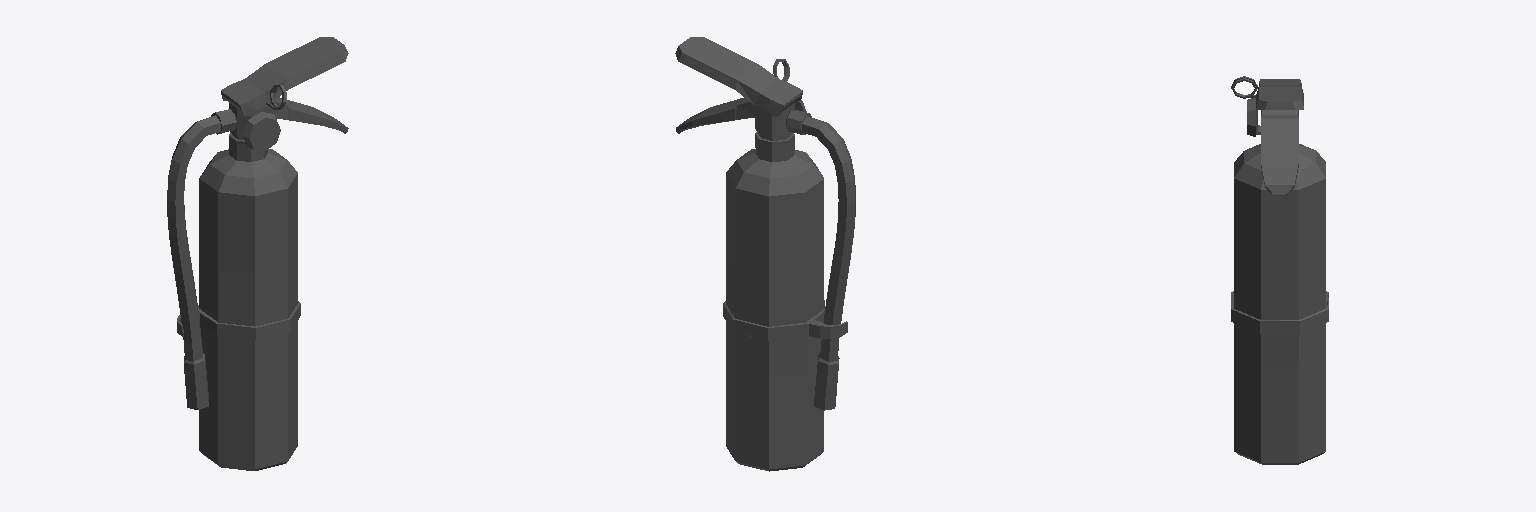
The model's file is Ship_10.obj.
3 views of the same model, side by side, from view 1: azimuth 30°, elevation 25°; view 2: azimuth 150°, elevation 25°; view 3: azimuth 270°, elevation 25° (orthographic).
Size of the model in its own units: 12.55 by 26.48 by 6.04.